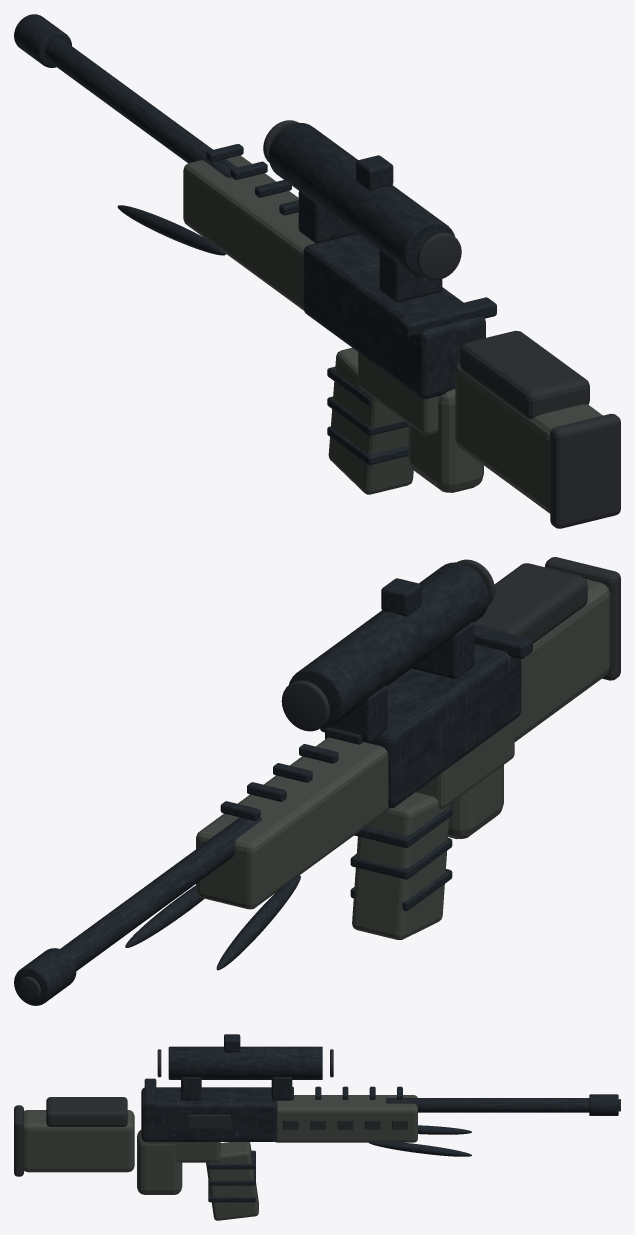
File: warden_sniper.glb
3 views of the same model, one above another, from view 1: azimuth 30°, elevation 25°; view 2: azimuth 150°, elevation 25°; view 3: azimuth 270°, elevation 25° (orthographic). The views are drawn at different scales.
Visible parts, largest first — view 1: Adjustable stock, Charging handle, Butt pad, Elevation turret; view 2: Adjustable stock, Charging handle, Elevation turret, Butt pad; view 3: Adjustable stock, Charging handle, Elevation turret, Butt pad.
Part boxes in pixels (x1,y1,x2,y2): Adjustable stock: [183, 155, 602, 513]; Charging handle: [45, 38, 496, 398]; Butt pad: [263, 120, 620, 528]; Elevation turret: [14, 14, 454, 464]; Adjustable stock: [196, 578, 610, 939]; Charging handle: [60, 622, 532, 970]; Elevation turret: [14, 562, 488, 1005]; Butt pad: [19, 557, 620, 999]; Adjustable stock: [23, 1095, 417, 1220]; Charging handle: [141, 1077, 589, 1156]; Elevation turret: [168, 1034, 618, 1202]; Butt pad: [14, 1049, 620, 1176].
Bounding box in the file's own units: 0.1425 × 0.4338 × 1.34.
5 materials, 3 textured.
